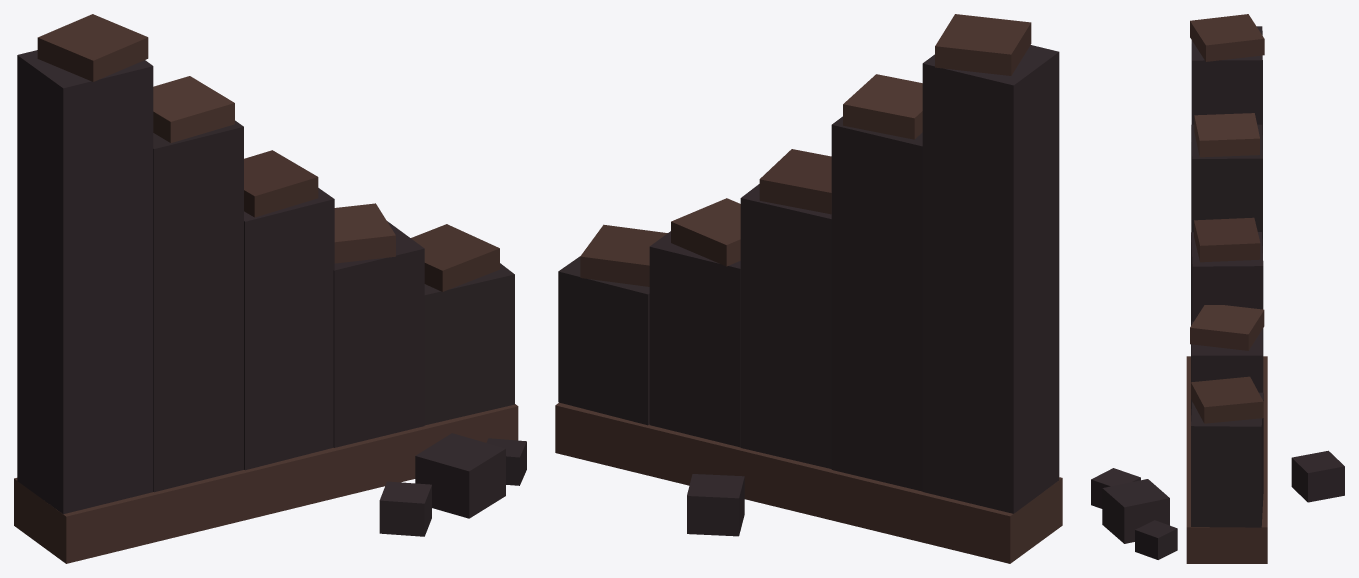
Rendered from wall_broken_4m.glb.
3 views of the same model, side by side, from view 1: azimuth 30°, elevation 25°; view 2: azimuth 150°, elevation 25°; view 3: azimuth 270°, elevation 25° (orthographic). The views are drawn at different scales.
Parts seen in each view (by area): view 1: wall_broken_4m; view 2: wall_broken_4m; view 3: wall_broken_4m.
Part boxes in pixels (left/top/right/bottom): wall_broken_4m: left=14, top=14, right=526, bottom=563; wall_broken_4m: left=555, top=14, right=1062, bottom=563; wall_broken_4m: left=1091, top=14, right=1344, bottom=563.
Size of the model in its own units: 4.01 by 4.18 by 2.51.
